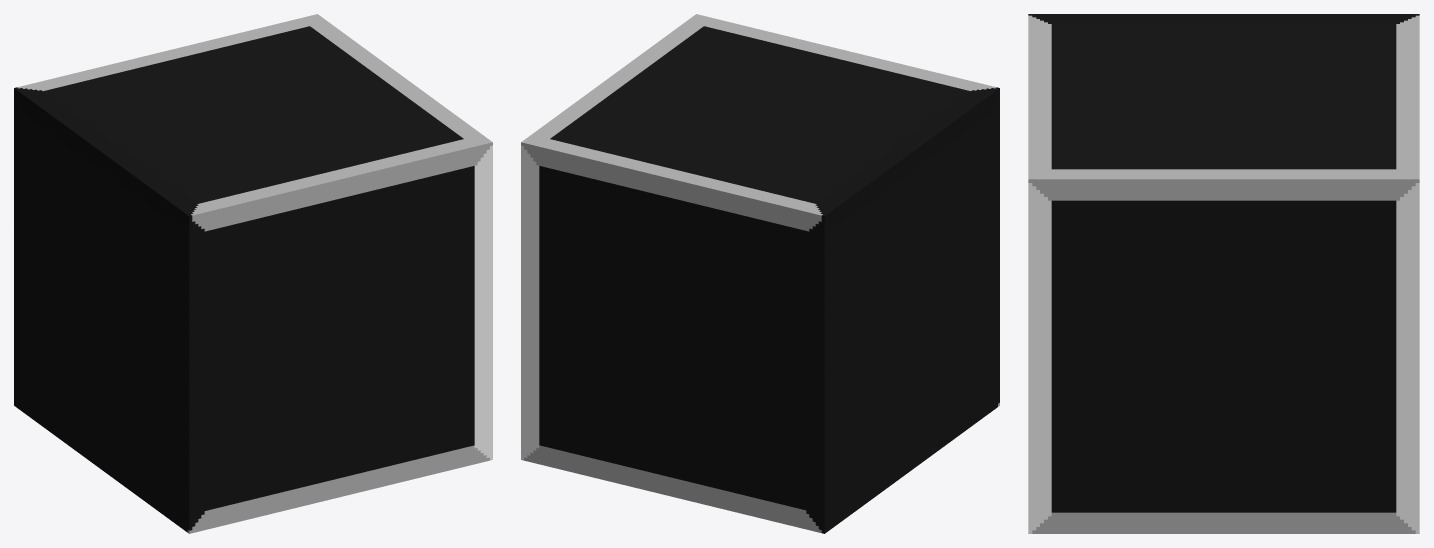
The model's file is dynamic_block.fbx.
The picture shows the model from 3 angles, left to right: view 1: azimuth 30°, elevation 25°; view 2: azimuth 150°, elevation 25°; view 3: azimuth 270°, elevation 25°; orthographic projection. The views are drawn at different scales.
Parts seen in each view (by area): view 1: dynamic_block; view 2: dynamic_block; view 3: dynamic_block.
Boxes of the visible parts, x1,y1,x2,y2 form: dynamic_block: (14, 14, 492, 533); dynamic_block: (521, 14, 999, 533); dynamic_block: (1028, 14, 1419, 533).
Bounding box in the file's own units: 100 × 100 × 100.
